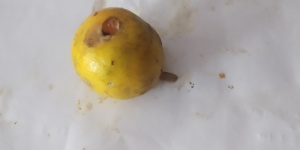BAD: (73, 9, 163, 103)
